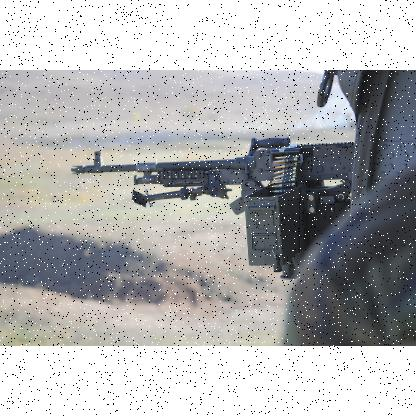gun: (72, 150, 350, 276)
